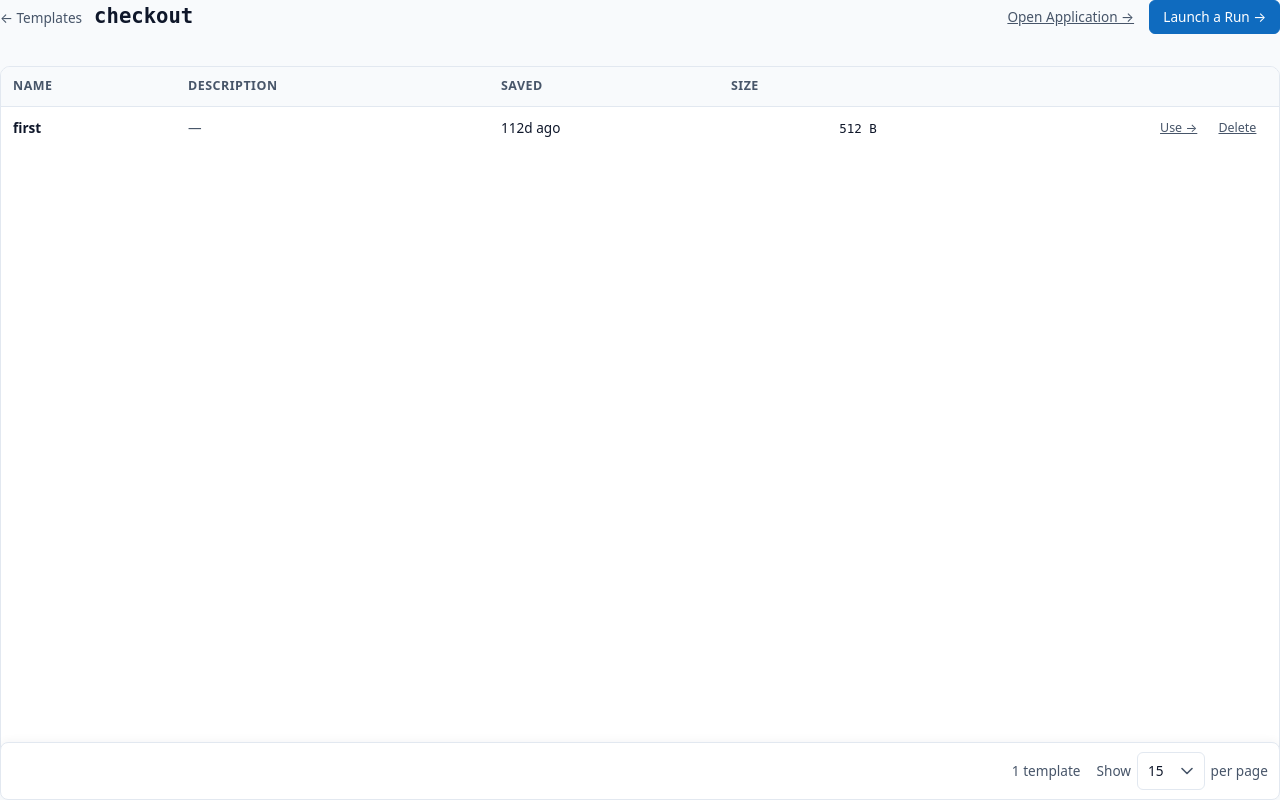
Test case: TemplatesDetailPage — Phase IA-Templates › Cancelling the delete modal leaves the template intact
Expected: the text "first" is shown, [13,118,41,137]
Click the button "Delete". click: (1237, 129)
box: [1208,114,1267,143]
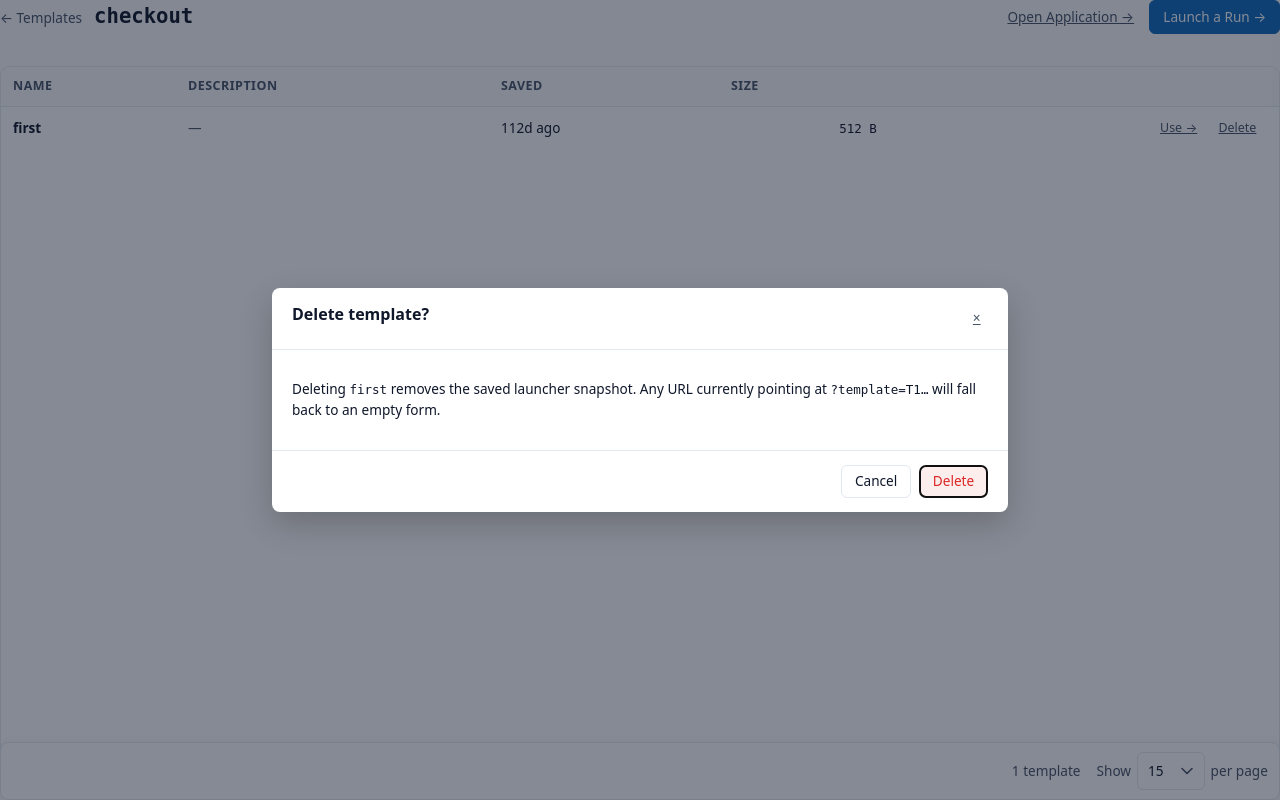
Result: the heading "Delete template?" is shown at [292,304,429,324]
Click the button "Cancel". click: (876, 482)
box: [841,465,911,498]
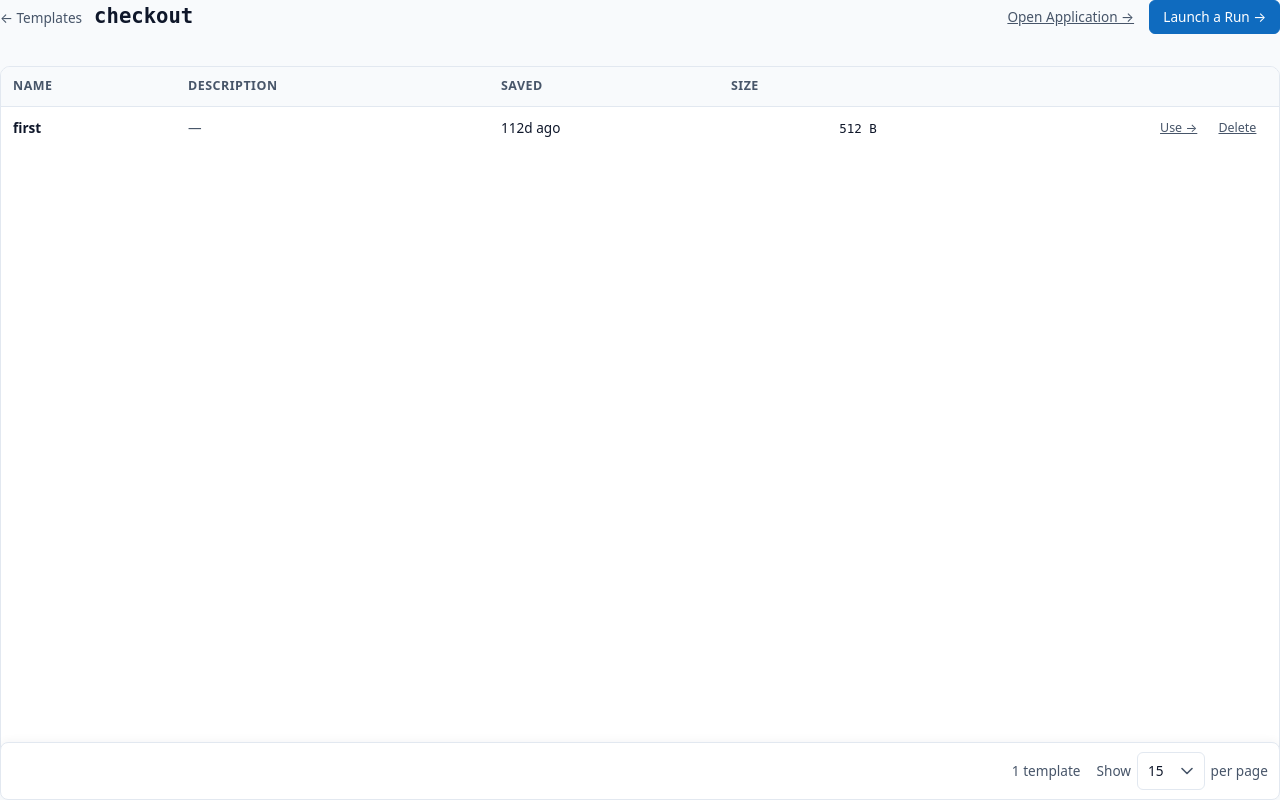
Result: the heading "Delete template" is gone
